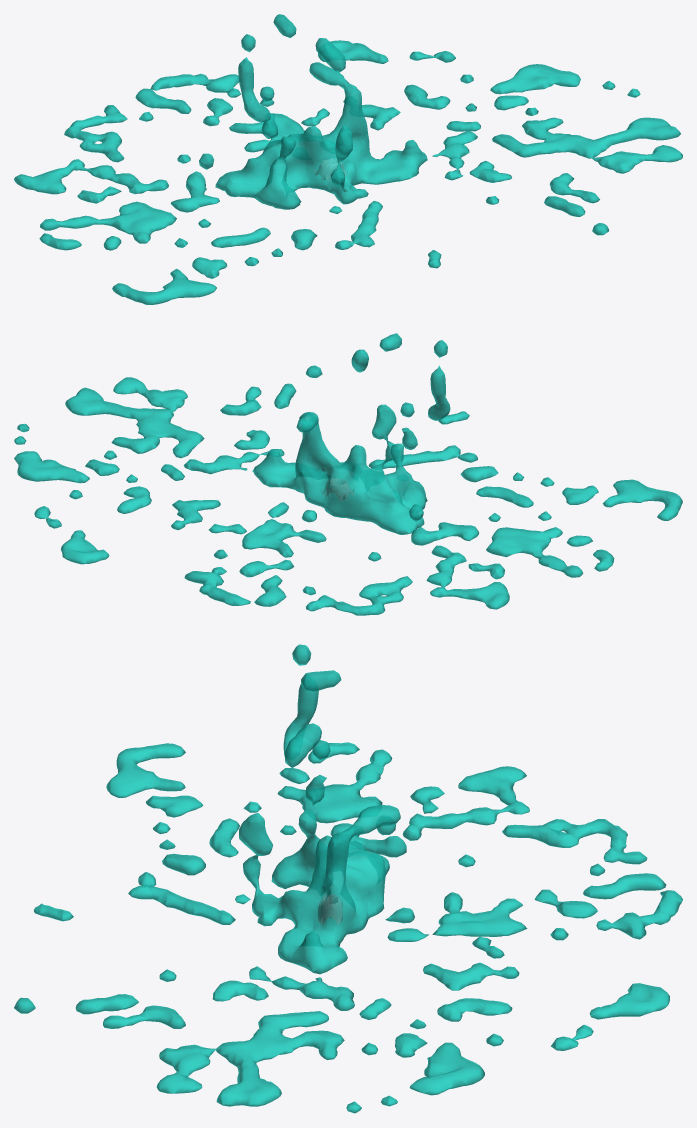
The picture shows the model from 3 angles, top to bottom: view 1: azimuth 30°, elevation 25°; view 2: azimuth 150°, elevation 25°; view 3: azimuth 270°, elevation 25°; orthographic projection. The views are drawn at different scales.
Visible parts, largest first — view 1: Liquid_Domain; view 2: Liquid_Domain, グリッド; view 3: Liquid_Domain.
Boxes of the visible parts, x1=… form: Liquid_Domain: x1=14, y1=14, x2=682, y2=304; Liquid_Domain: x1=14, y1=333, x2=682, y2=615; グリッド: x1=321, y1=478, x2=353, y2=500; Liquid_Domain: x1=14, y1=644, x2=682, y2=1113.
Bounding box in the file's own units: 10.29 × 2.92 × 7.95.
